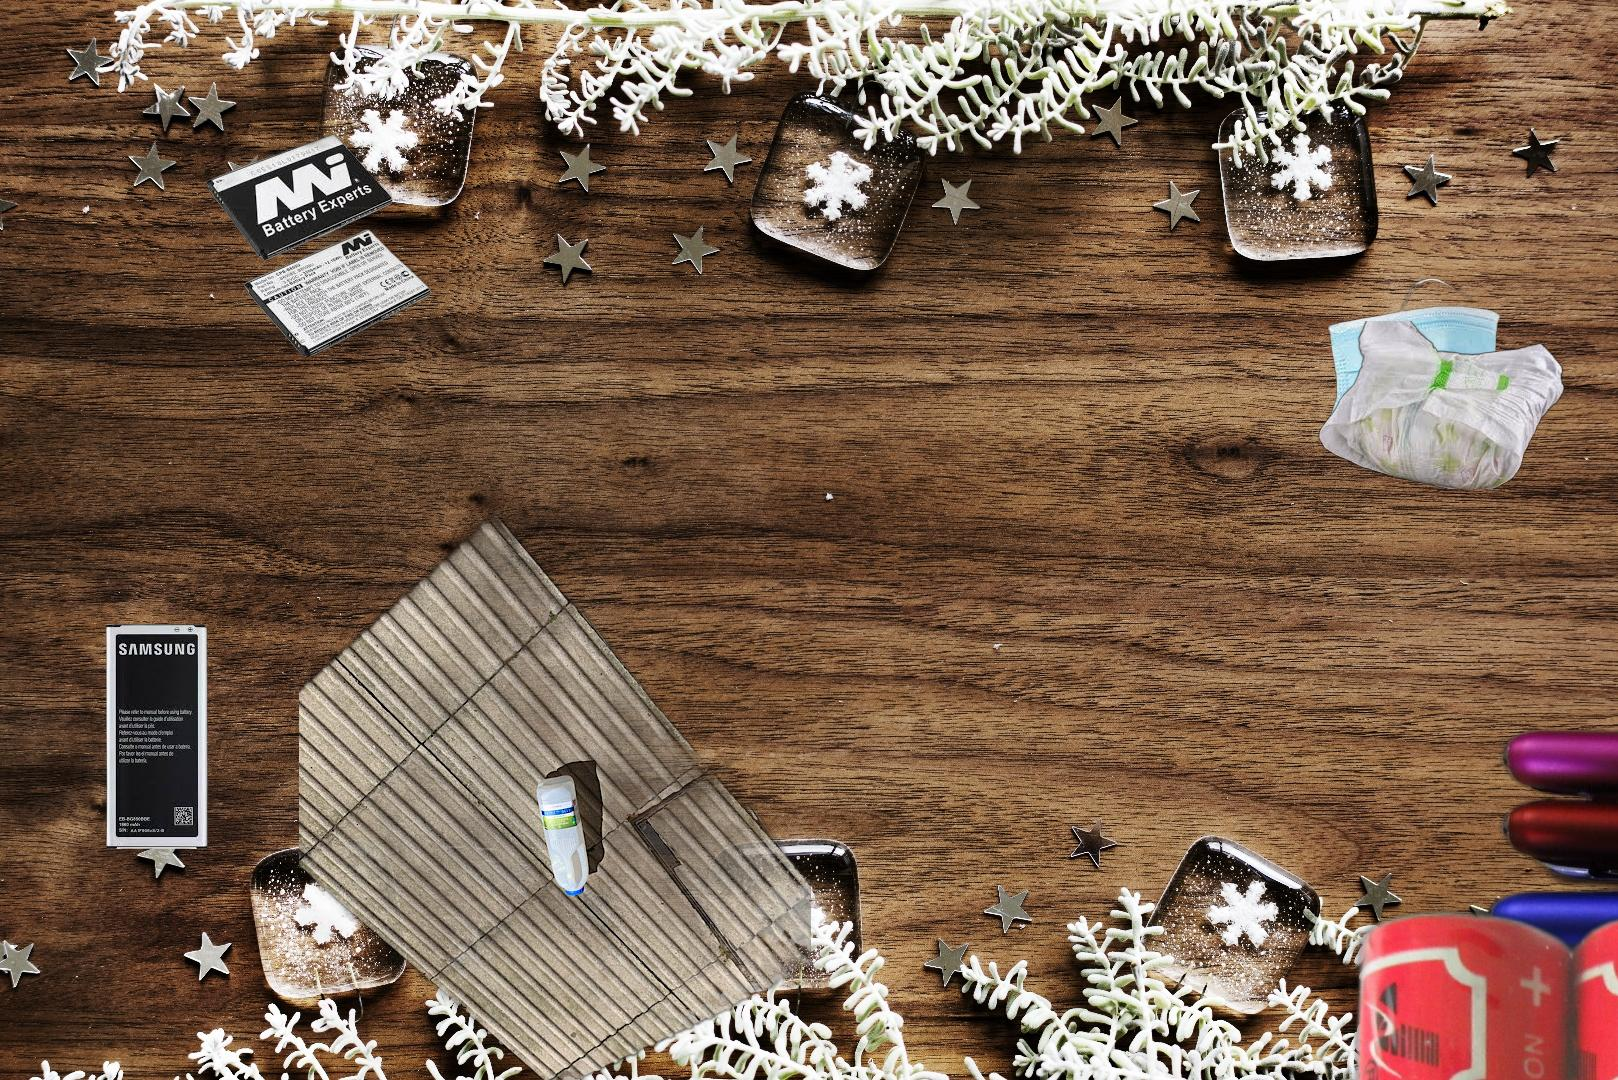battery: (1340, 894, 1618, 1080), (206, 133, 431, 358), (45, 624, 211, 849)
penholder: (1467, 724, 1618, 1080)
plastic-bottles: (299, 452, 811, 1080)
trash: (1316, 321, 1567, 489), (1325, 276, 1504, 479)
trashbox-cardboard: (586, 940, 1618, 1080)
